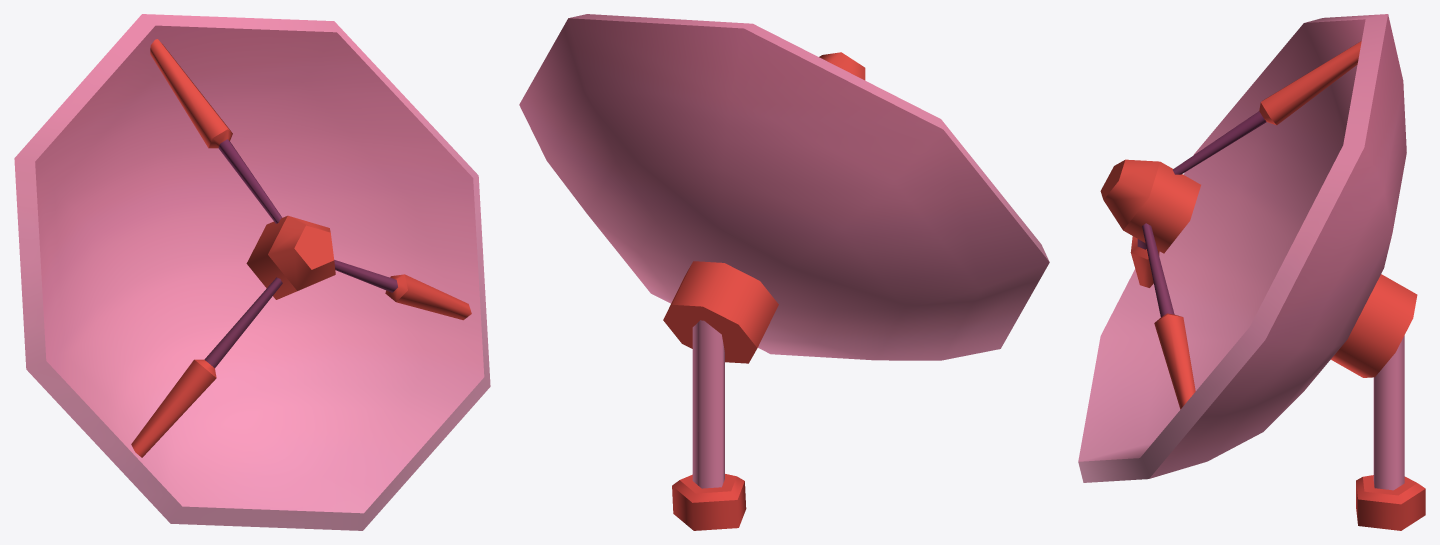
The model's file is Antene_2_D_1.fbx.
The picture shows the model from 3 angles, left to right: view 1: azimuth 30°, elevation 25°; view 2: azimuth 150°, elevation 25°; view 3: azimuth 270°, elevation 25°; orthographic projection. The views are drawn at different scales.
Parts seen in each view (by area): view 1: Antene_2_D_1; view 2: Antene_2_D_1, Antene_2_D_1h; view 3: Antene_2_D_1, Antene_2_D_1h.
Part boxes in pixels (x1=…): Antene_2_D_1: x1=14, y1=14, x2=490, y2=530; Antene_2_D_1: x1=519, y1=14, x2=1049, y2=363; Antene_2_D_1h: x1=672, y1=320, x2=746, y2=530; Antene_2_D_1: x1=1078, y1=14, x2=1417, y2=482; Antene_2_D_1h: x1=1356, y1=335, x2=1425, y2=530.
Bounding box in the file's own units: 1.42 × 1.34 × 0.8686.
